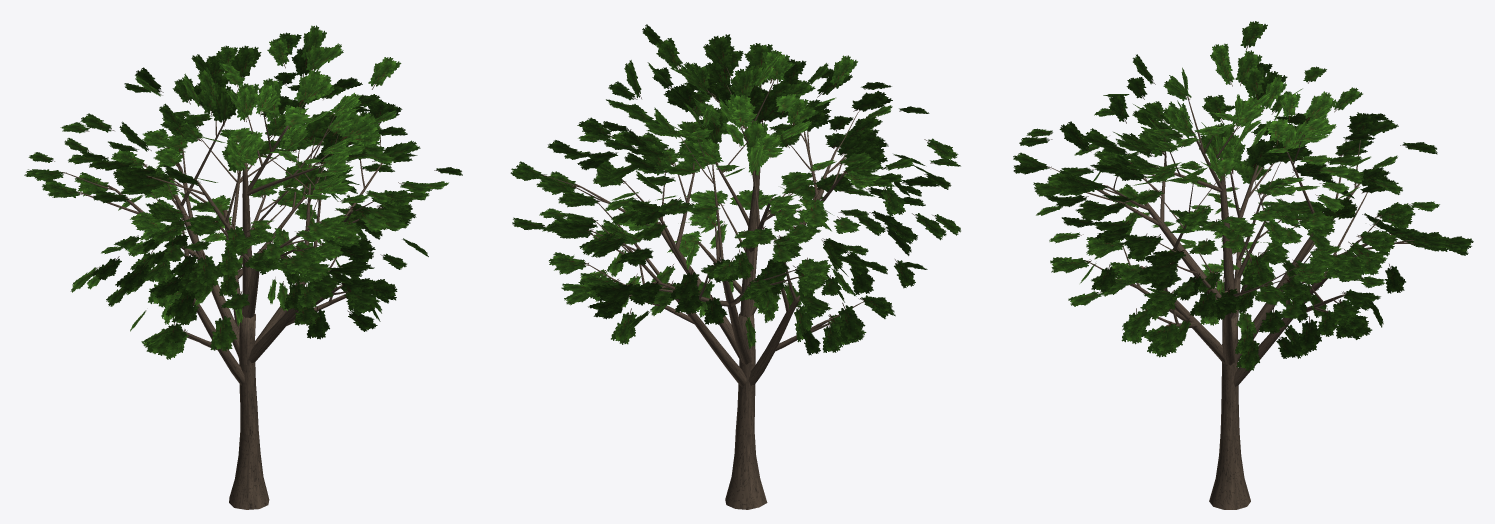
File: park_plane.glb
3 renders of one model, left to right at view 1: azimuth 30°, elevation 25°; view 2: azimuth 150°, elevation 25°; view 3: azimuth 270°, elevation 25°, orthographic.
Parts seen in each view (by area): view 1: park_plane; view 2: park_plane; view 3: park_plane.
Boxes of the visible parts, x1,y1,x2,y2 form: park_plane: (24,25,462,509); park_plane: (510,24,960,509); park_plane: (1013,21,1473,509).
Size of the model in its own units: 11.83 by 12.9 by 12.54.
2 materials, 2 textured.
